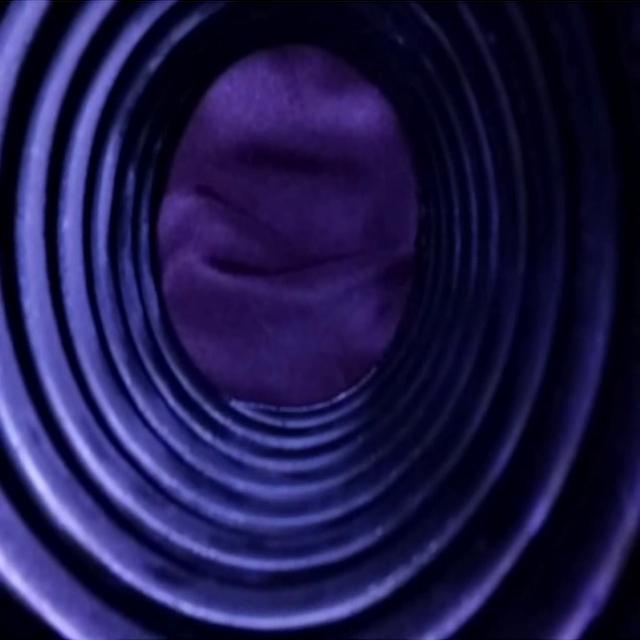block: (157, 42, 418, 409)
